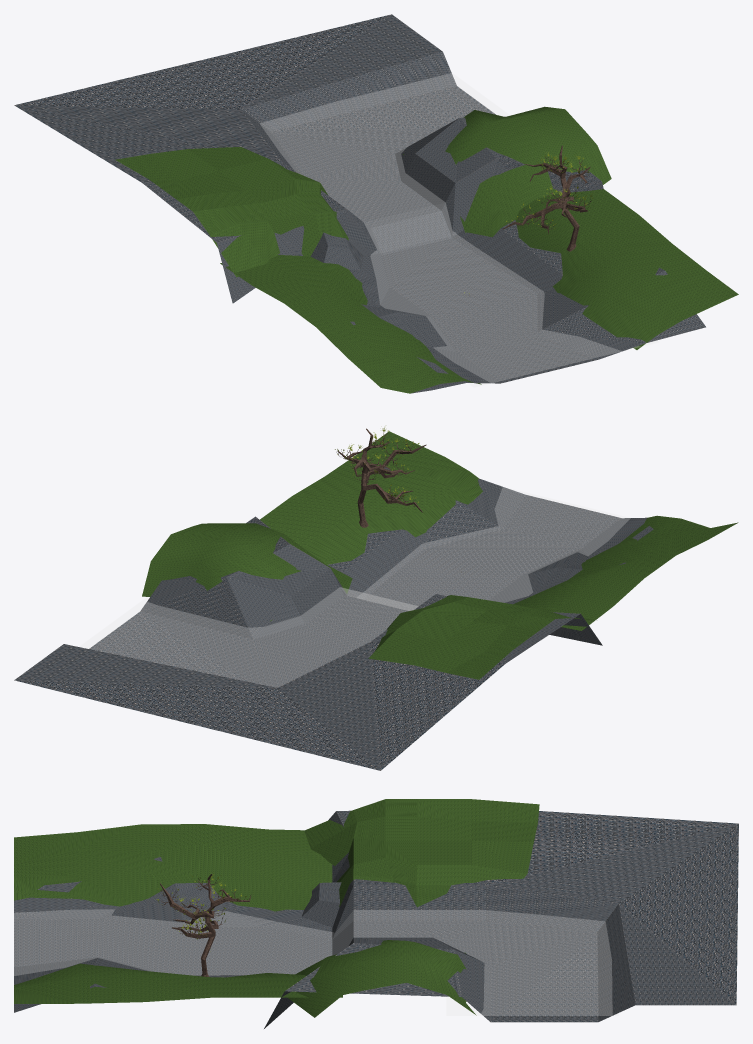
Rendered from river_bed_3.glb.
3 renders of one model, top to bottom at view 1: azimuth 30°, elevation 25°; view 2: azimuth 150°, elevation 25°; view 3: azimuth 270°, elevation 25°, orthographic. The views are drawn at different scales.
Visible parts, largest first — view 1: plane, water, Plane, Plane.001, plane.003, Plane.002, plane.002, plane.001, tree; view 2: plane, water, Plane, Plane.001, plane.003, Plane.002, plane.002, plane.001, tree; view 3: plane, water, plane.003, Plane.001, Plane, plane.001, Plane.002, plane.002, tree.
Part boxes in pixels (x1,y1,x2,y2): plane: (14,14,603,383); water: (260,73,658,386); Plane: (515,189,738,349); Plane.001: (115,147,348,277); plane.003: (220,255,481,393); Plane.002: (403,106,611,237); plane.002: (452,220,705,359); plane.001: (349,255,500,393); tree: (502,145,590,251); plane: (14,494,621,770); water: (80,487,630,687); Plane: (260,431,482,564); Plane.001: (368,595,593,679); plane.003: (513,515,738,630); Plane.002: (142,523,352,621); plane.002: (328,467,524,599); plane.001: (490,517,653,604); tree: (337,428,426,527); plane: (14,810,738,1028); water: (14,909,618,1015); plane.003: (14,824,332,911); Plane.001: (304,799,539,907); Plane: (14,963,342,1003); plane.001: (14,857,332,939); Plane.002: (288,940,476,1017); plane.002: (14,957,243,1012); tree: (160,874,251,976).
Size of the model in its own units: 83.32 by 29.08 by 137.
5 materials, 4 textured.
